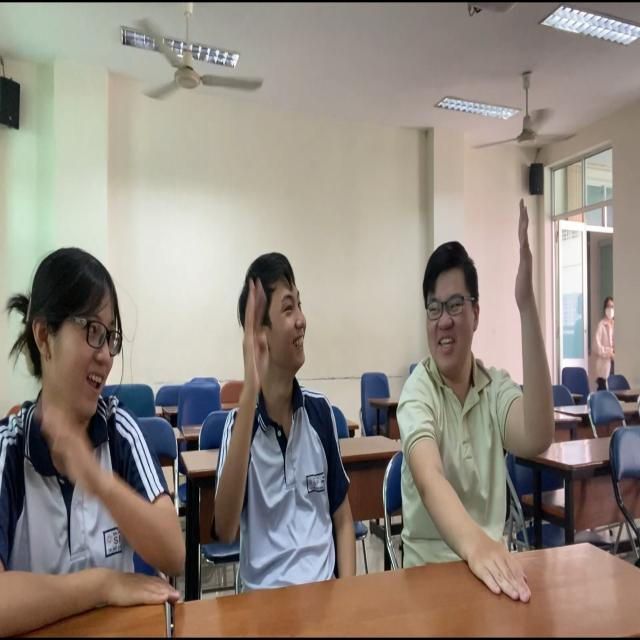raise_hand: (389, 187, 561, 608), (213, 241, 367, 583)
